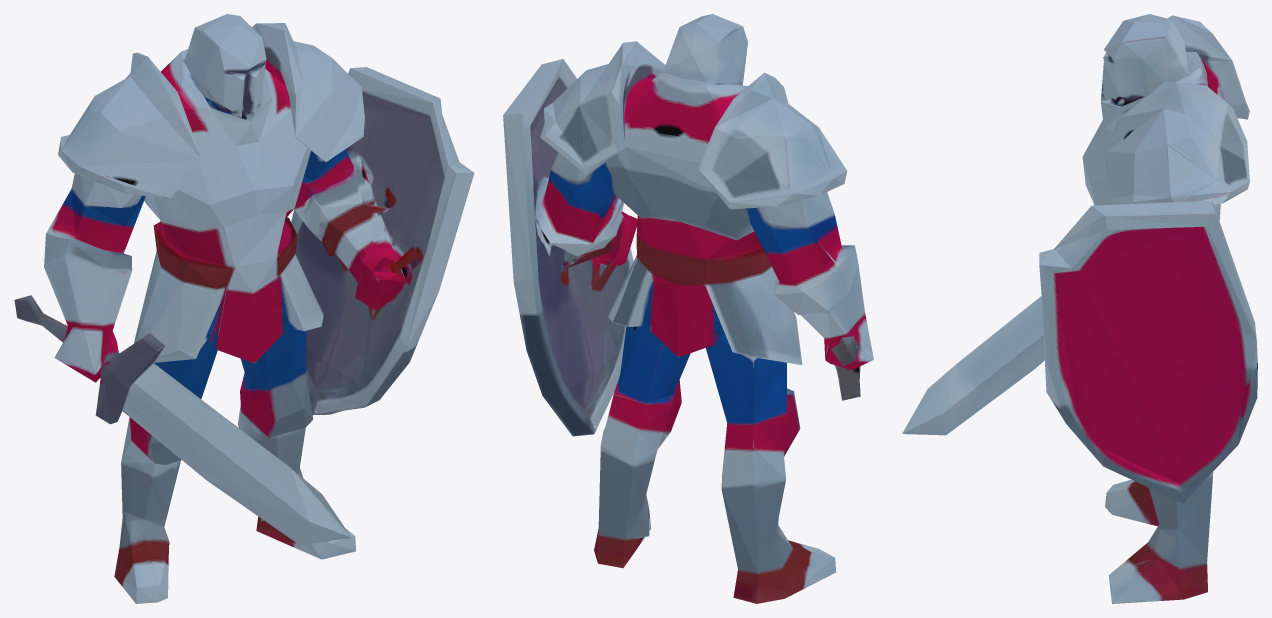
The model's file is tank-lite.glb.
3 views of the same model, side by side, from view 1: azimuth 30°, elevation 25°; view 2: azimuth 150°, elevation 25°; view 3: azimuth 270°, elevation 25° (orthographic). The views are drawn at different scales.
Visible parts, largest first — view 1: Mesh1.0; view 2: Mesh1.0; view 3: Mesh1.0.
Boxes of the visible parts, x1=… form: Mesh1.0: x1=14, y1=14, x2=474, y2=603; Mesh1.0: x1=503, y1=14, x2=873, y2=603; Mesh1.0: x1=902, y1=14, x2=1257, y2=603.
Bounding box in the file's own units: 1.28 × 1.8 × 1.08.
Materials: 1 (1 with a texture image).
